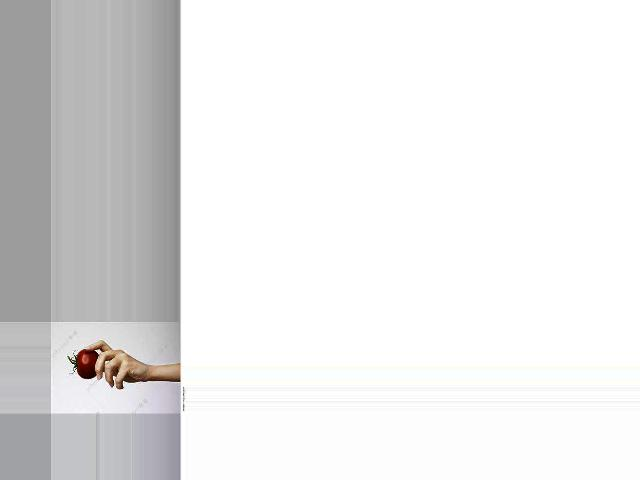tomato: (67, 350, 98, 379)
